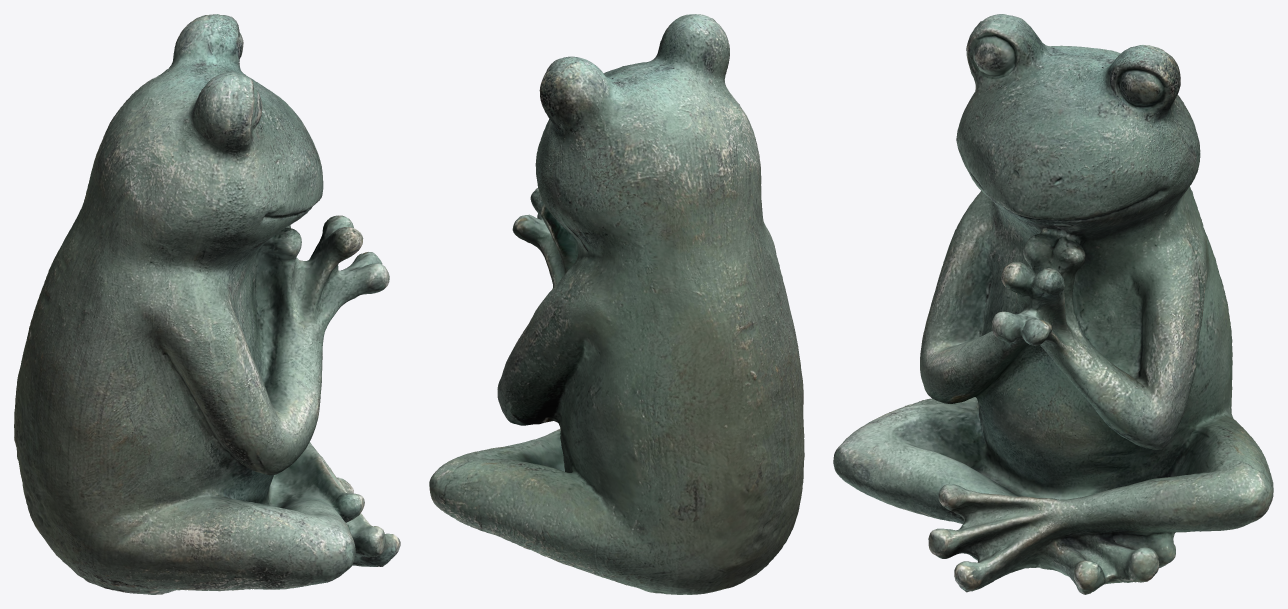
The model's file is frog.glb.
3 renders of one model, left to right at view 1: azimuth 30°, elevation 25°; view 2: azimuth 150°, elevation 25°; view 3: azimuth 270°, elevation 25°, orthographic.
Visible parts, largest first — view 1: Cube; view 2: Cube; view 3: Cube.
Part boxes in pixels (box(x1,y1,x2,y2)): Cube: box(14, 14, 400, 594); Cube: box(429, 14, 804, 594); Cube: box(833, 14, 1273, 594).
Size of what is drawn, in the model's own units: 0.2013 by 0.3147 by 0.2453.
Materials: 1 (1 with a texture image).
